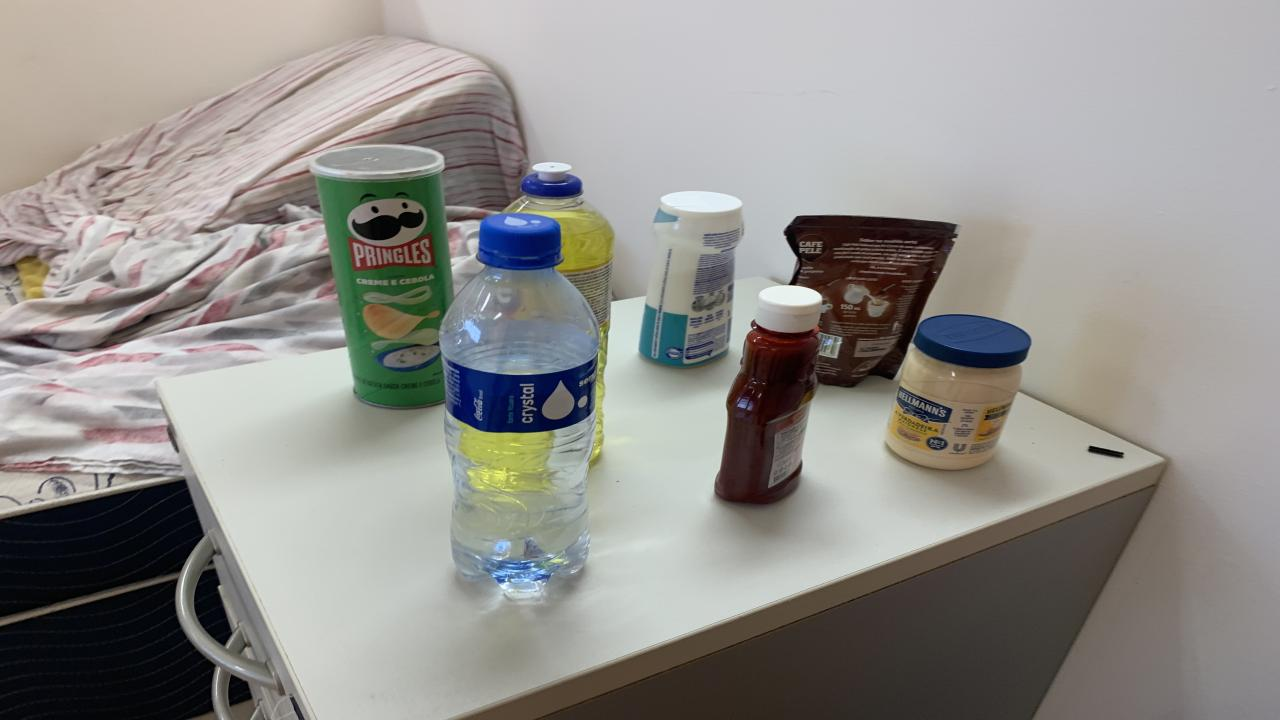Cleaner-Cleanup_Items: (640, 191, 742, 368)
Coffee-Pantry_Items: (785, 216, 958, 386)
Detergent-Cleanup_Items: (505, 161, 615, 399)
Ketchup-Pantry_Items: (715, 287, 822, 504)
Mayonnaise-Pantry_Items: (885, 315, 1030, 469)
Pringles-Snacks: (312, 146, 452, 409)
Water_Bottle-Drinks: (440, 214, 600, 600)
